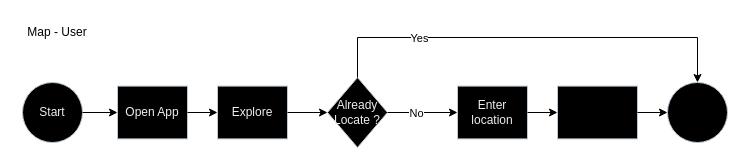
The diagram is 745 pixels wide and 165 high, and some of its shapes have lost their labels. The shapes that lost their labels are listed below. From the top down, each one's box as (x1, y1, x2, y2) in pixels, then its label:
(556, 85, 638, 139): Required destination came up
(666, 82, 728, 142): Stop
